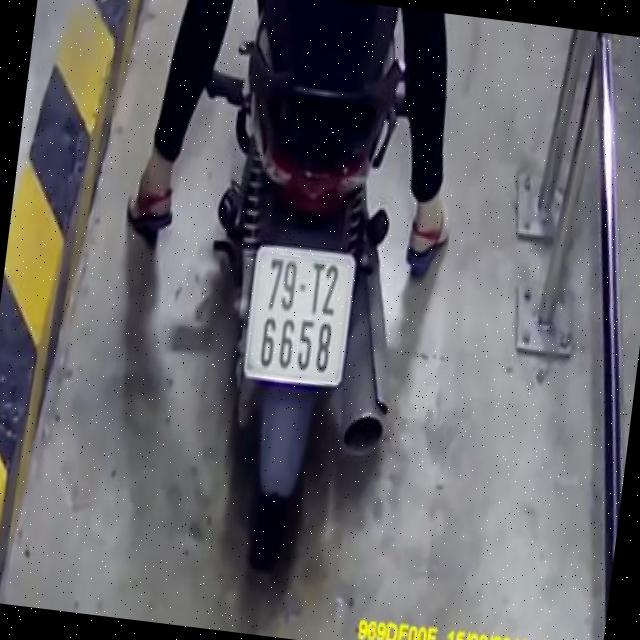license_plate: (240, 238, 360, 392)
